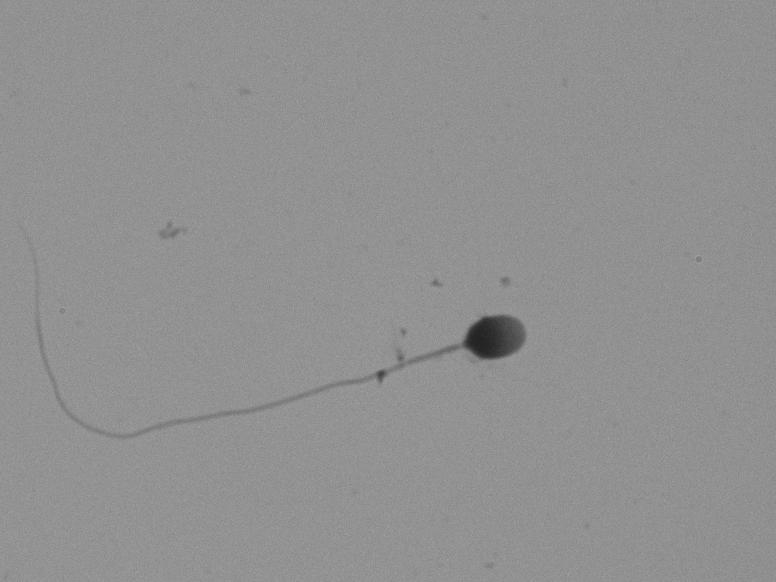Normal: (22, 152, 546, 478)
